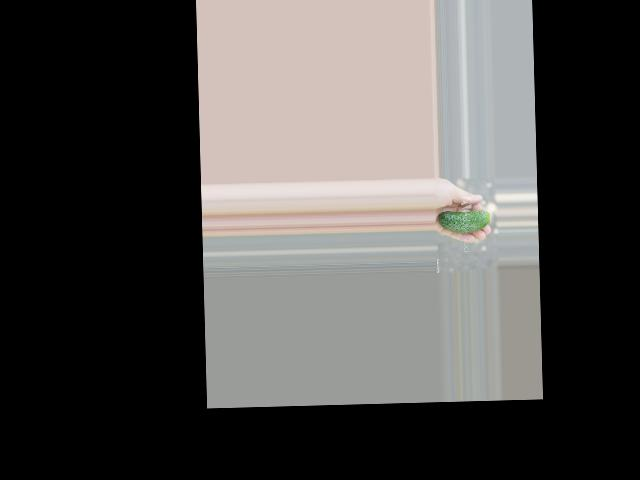cucumber: (437, 210, 490, 234)
